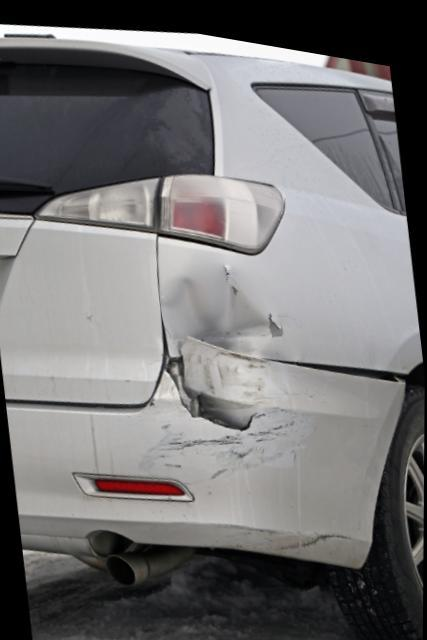crack: (163, 342, 260, 423)
dent: (160, 258, 272, 346)
scratch: (139, 338, 320, 478), (215, 514, 366, 542)
